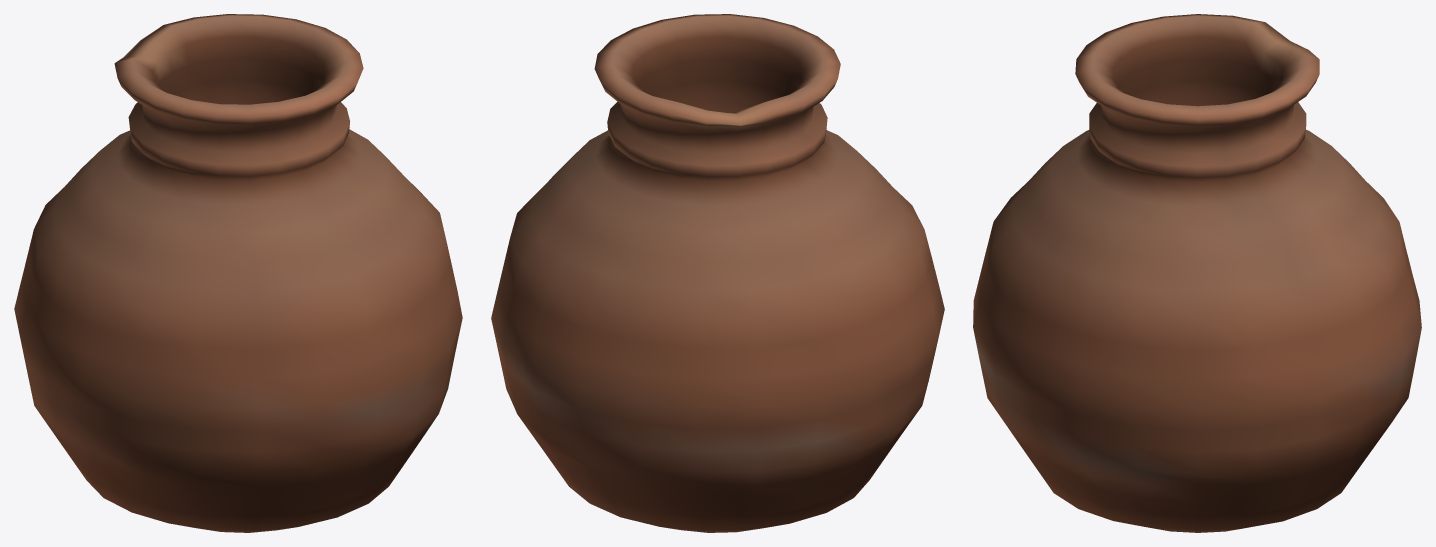
Rendered from pot_ghada_v2_b.glb.
The picture shows the model from 3 angles, left to right: view 1: azimuth 30°, elevation 25°; view 2: azimuth 150°, elevation 25°; view 3: azimuth 270°, elevation 25°; orthographic projection.
Parts seen in each view (by area): view 1: hb_main; view 2: hb_main; view 3: hb_main.
Part boxes in pixels (x1,y1,x2,y2): hb_main: (14,14,462,532); hb_main: (491,14,944,532); hb_main: (973,14,1421,532).
Size of the model in its own units: 0.4598 by 0.484 by 0.4571.
